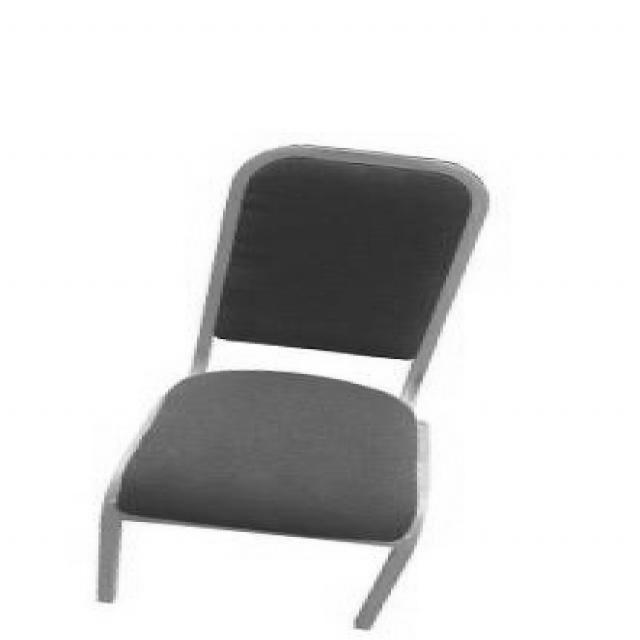chair: (87, 143, 496, 640)
